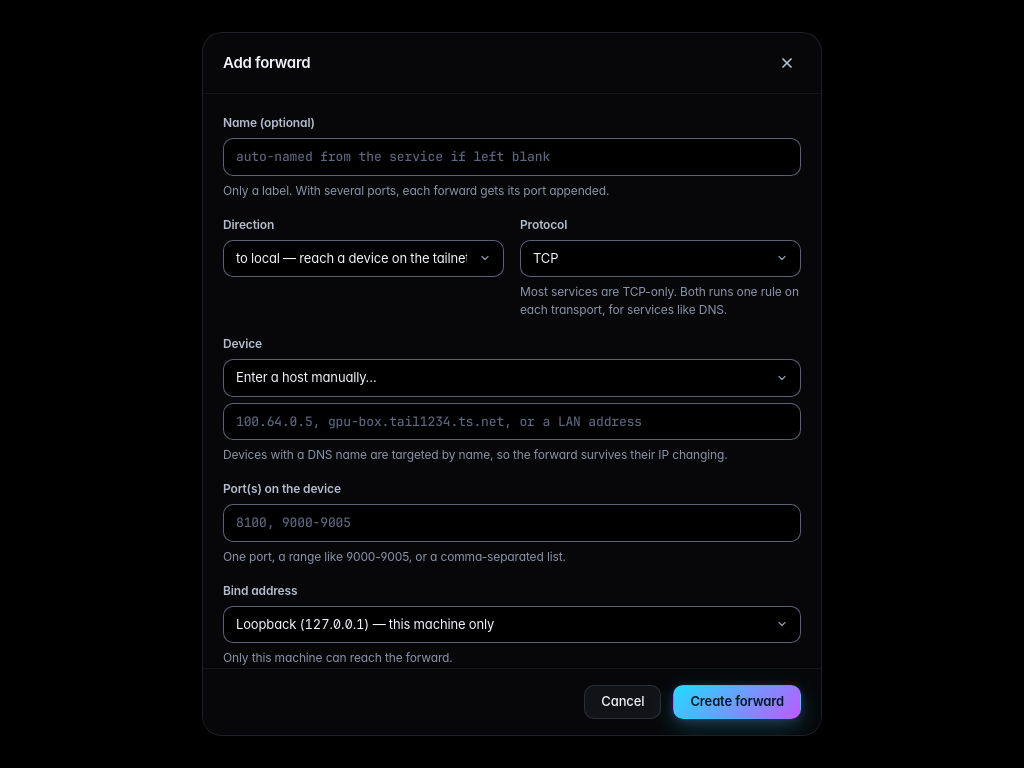
Test: what the dialog refuses to send › refuses a backwards range
Step 1. Type "gpu-box" into the field named "Host" → (512, 421), box top-left (223, 402), bottom-right (801, 440)
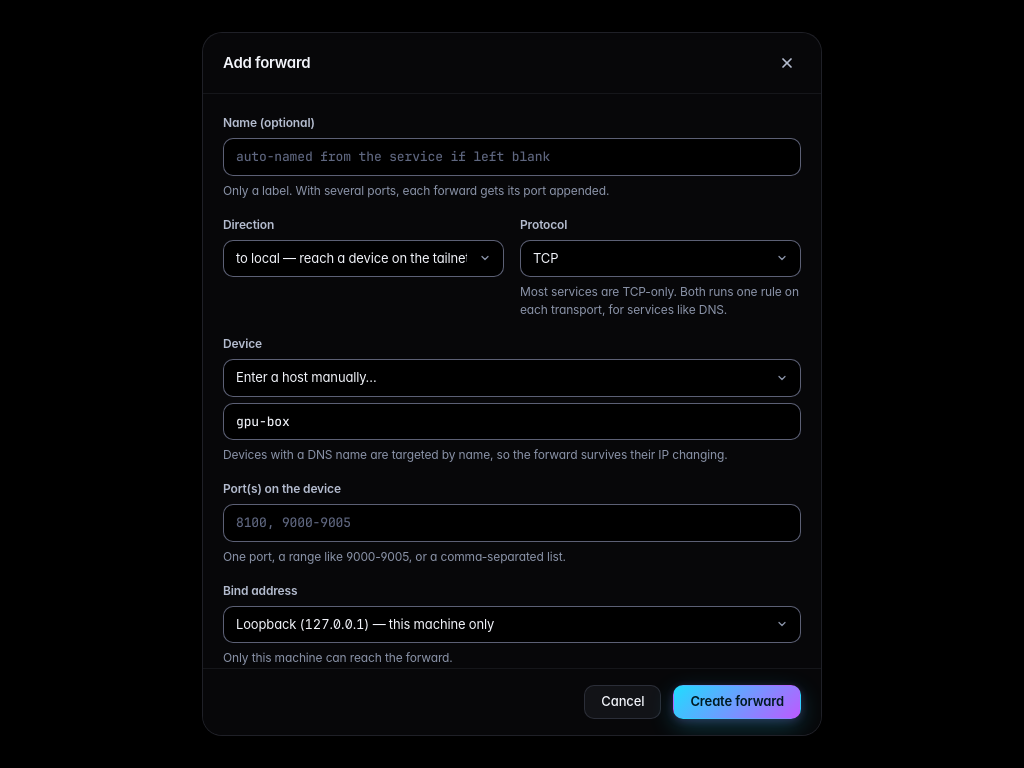
Step 2. Type "9005-9000" into the field labelled "Port(s) on the device" → (512, 523), box top-left (223, 504), bottom-right (801, 542)
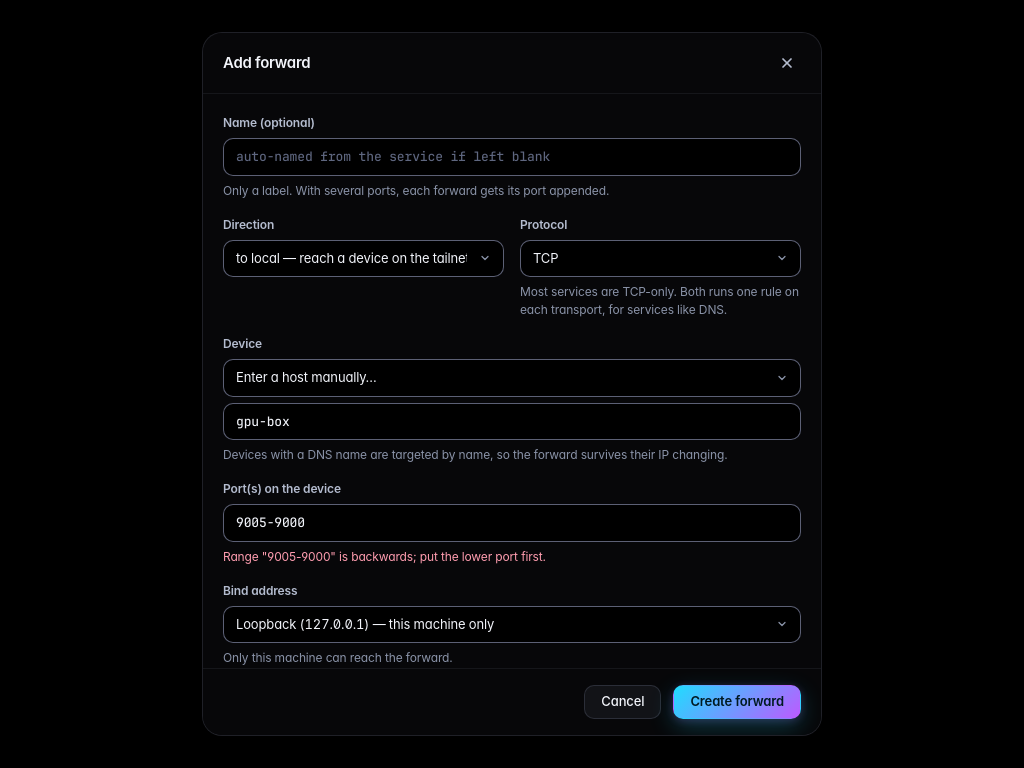
Step 3. Click the button "Create forward" → (737, 702), box top-left (673, 686), bottom-right (801, 719)
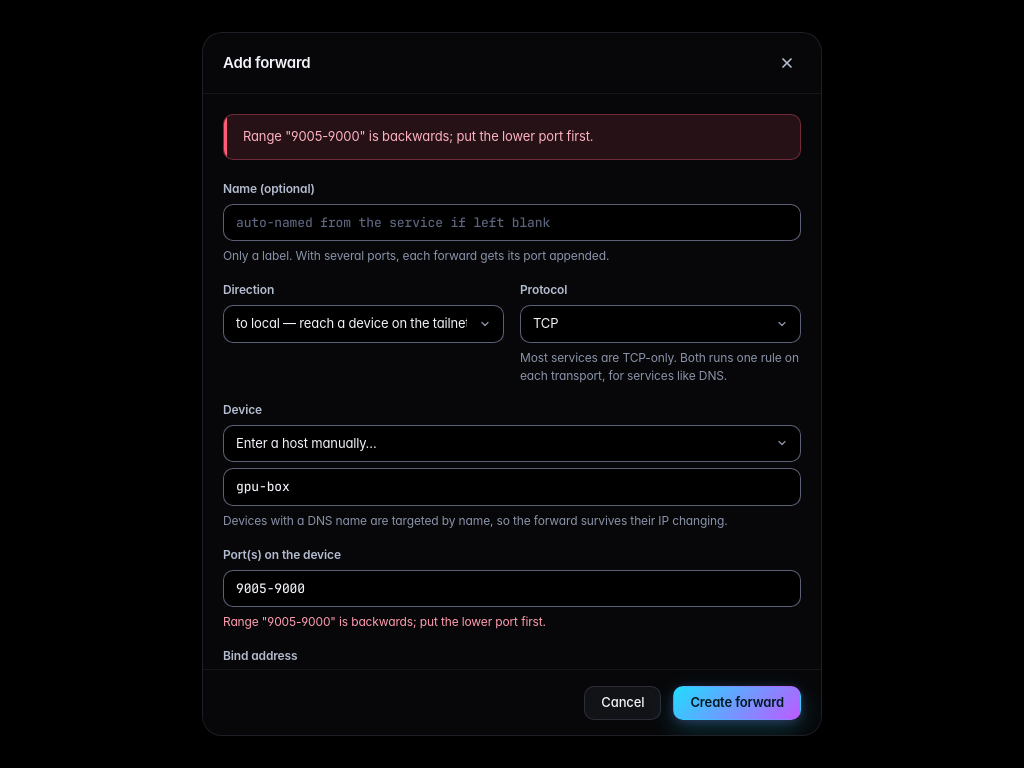
Expected: the text with class "error" reads "Range \"9005-9000\" is backwards; put the lower port first.", top-left (243, 128), bottom-right (594, 144)
